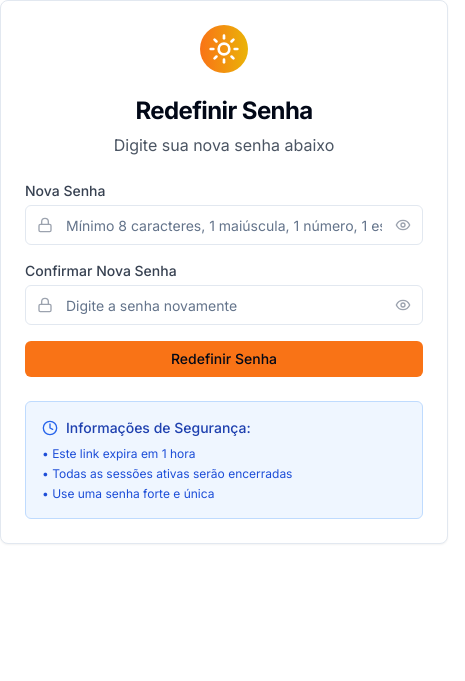
PasswordResetForm › shows password strength meter when password is entered
This screenshot has width=465, height=681.
In the password field with test id "password-input": (224, 225) [25,205,423,245], type "weak"
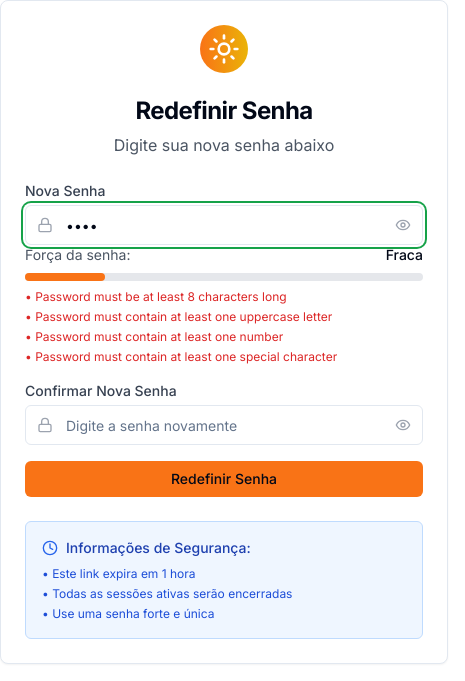
Check: the element with test id "password-strength-meter" is shown, box [25,245,423,365]
Check: the text "Fraca" is shown, box [386,245,423,265]
Check: the element with test id "strength-bar" is shown, box [25,273,105,281]
